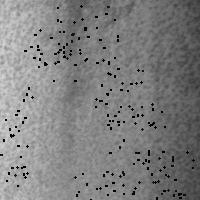pitted_surface: (76, 2, 198, 198), (4, 2, 110, 197), (57, 5, 117, 64), (105, 103, 164, 163), (24, 29, 79, 87), (95, 68, 151, 124), (133, 151, 192, 200), (74, 171, 134, 200), (0, 93, 31, 147), (0, 154, 26, 200)
